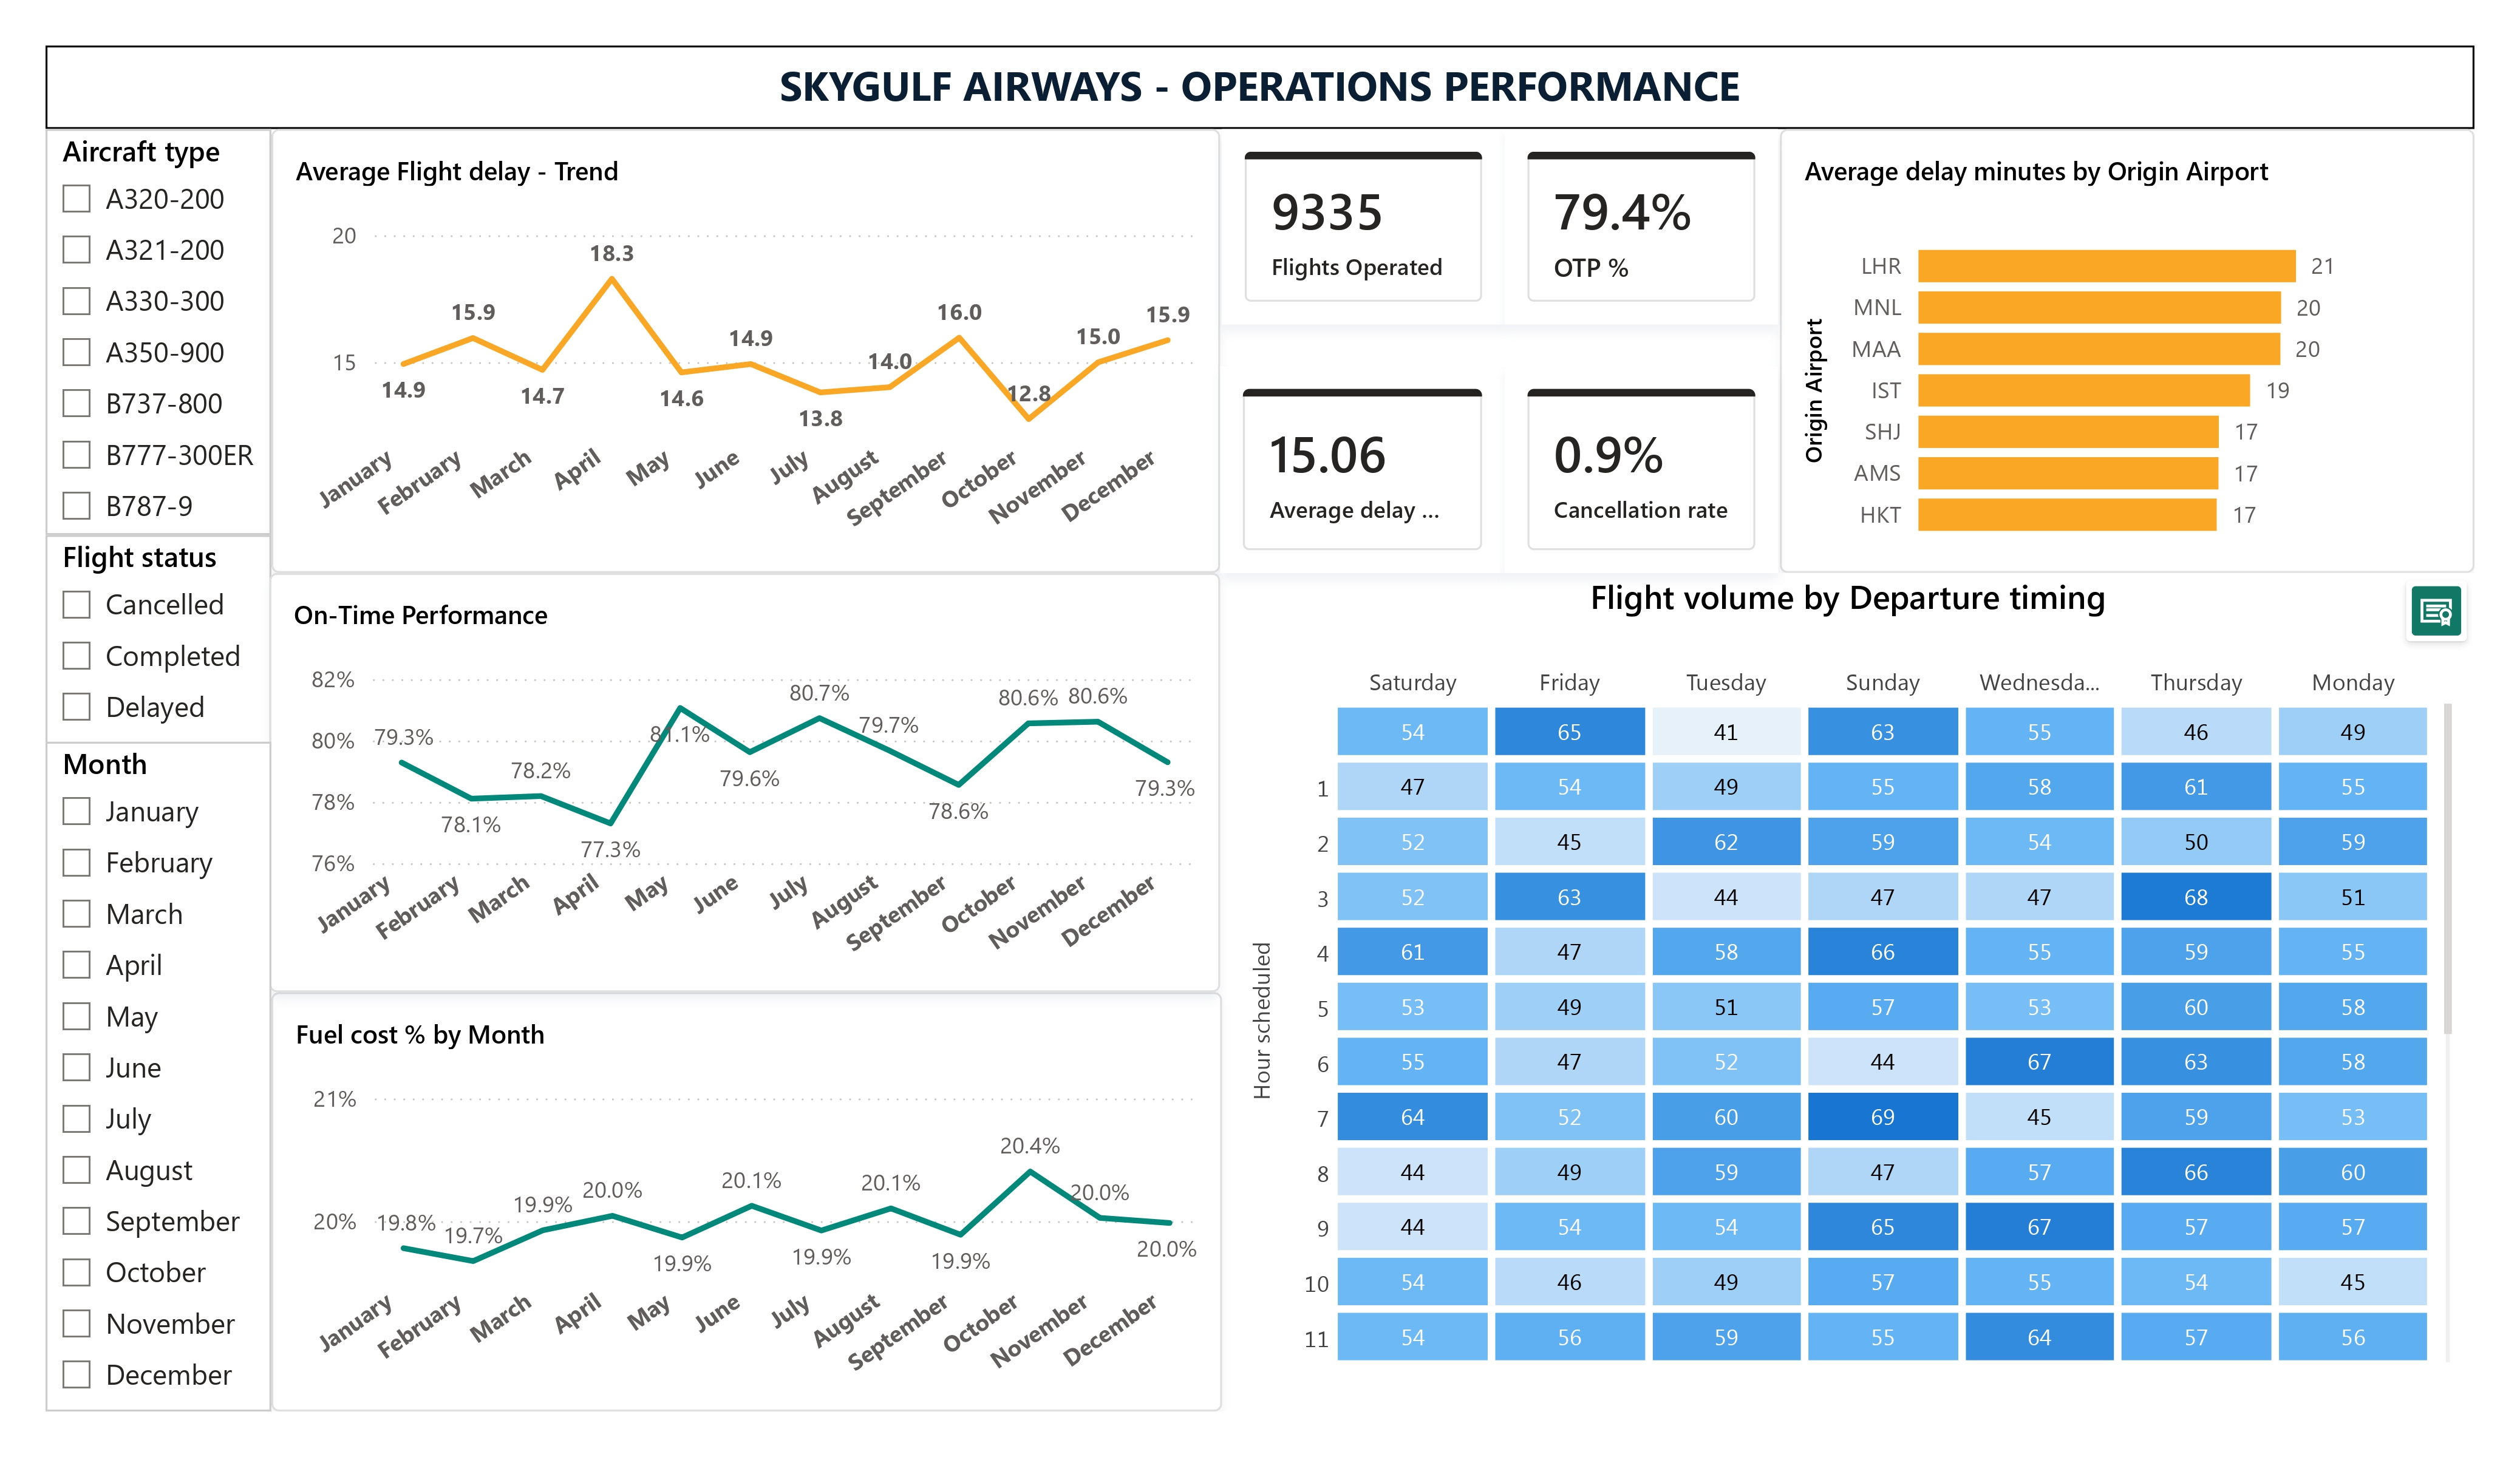

Layout of this report page (visuals, bound fields, positions):
{"tool":"powerbi","page":{"name":"Page 2","canvas":[1280,720],"ordinal":1},"visuals":[{"type":"textbox","box":[0,0,1280,43.8],"z":0},{"type":"slicer","fields":{"Values":["Aircraft.aircraft_type"]},"box":[0,43.6,119.1,214.5],"z":1000},{"type":"slicer","fields":{"Values":["Flights.status"]},"box":[0,257.8,118.7,109.9],"z":2000},{"type":"barChart","title":"Average delay minutes by Origin Airport","fields":{"Category":["Routes.origin_airport"],"Y":["Flights.Average delay minutes"]},"box":[914.3,43.8,365.7,234.4],"z":3000},{"type":"lineChart","title":"Average Flight delay - Trend","fields":{"Category":["Flights.flight_date.Variation.Date Hierarchy.Month","Flights.flight_date.Variation.Date Hierarchy.Day"],"Y":["Flights.Average delay minutes"]},"box":[119,44,500,234],"z":4000},{"type":"HeatMap67B54F74B5374B9EA95AC568DC37B14C","title":"Flight volume by Departure timing","fields":{"xAxis":["Flights.Day Name"],"Value":["Flights.Total flights"],"yAxis":["Flights.Hour scheduled"]},"box":[619.6,278.2,660.4,441.6],"z":5000},{"type":"lineChart","fields":{"Category":["Flights.flight_date.Variation.Date Hierarchy.Month","Flights.flight_date.Variation.Date Hierarchy.Day"],"Y":["Flights.Fuel cost %"]},"box":[118.7,499,500.9,220.8],"z":6000},{"type":"cardVisual","fields":{"Data":["Flights.Total flights"]},"box":[620,44,149,103],"z":7000},{"type":"cardVisual","fields":{"Data":["Flights.OTP %"]},"box":[769,44,144,103],"z":8000},{"type":"cardVisual","fields":{"Data":["Flights.Average delay minutes"]},"box":[619,169,150,109],"z":9000},{"type":"cardVisual","fields":{"Data":["Flights.Cancellation rate"]},"box":[769,169,144,109],"z":10000},{"type":"lineChart","title":"On-Time Performance","fields":{"Category":["Flights.flight_date.Variation.Date Hierarchy.Month","Flights.flight_date.Variation.Date Hierarchy.Day"],"Y":["Flights.OTP %"]},"box":[118,278,500.9,220.8],"z":11000},{"type":"slicer","fields":{"Values":["Flights.flight_date.Variation.Date Hierarchy.Month"]},"box":[0,367.3,119.1,352.7],"z":12000}]}

Visuals, with their boxes on the page's 1280x720 design canvas (x1, y1, x2, y2). These are canvas units, not pixel positions in the 2520x1457 screenshot, which may show the page scaled, cropped or inside an application window:
textbox: <region>0, 0, 1280, 44</region>
slicer - Aircraft.aircraft_type: <region>0, 44, 119, 258</region>
slicer - Flights.status: <region>0, 258, 119, 368</region>
"Average delay minutes by Origin Airport" barChart: <region>914, 44, 1280, 278</region>
"Average Flight delay - Trend" lineChart: <region>119, 44, 619, 278</region>
"Flight volume by Departure timing" HeatMap67B54F74B5374B9EA95AC568DC37B14C: <region>620, 278, 1280, 720</region>
lineChart - Flights.flight_date.Variation.Date Hierarchy.Month x Flights.flight_date.Variation.Date Hierarchy.Day: <region>119, 499, 620, 720</region>
cardVisual - Flights.Total flights: <region>620, 44, 769, 147</region>
cardVisual - Flights.OTP %: <region>769, 44, 913, 147</region>
cardVisual - Flights.Average delay minutes: <region>619, 169, 769, 278</region>
cardVisual - Flights.Cancellation rate: <region>769, 169, 913, 278</region>
"On-Time Performance" lineChart: <region>118, 278, 619, 499</region>
slicer - Flights.flight_date.Variation.Date Hierarchy.Month: <region>0, 367, 119, 720</region>
